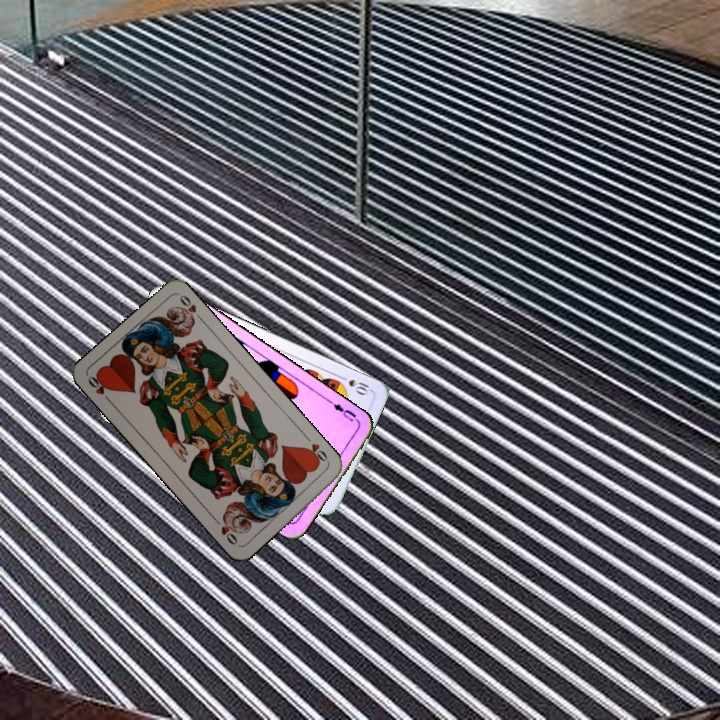EU: (326, 397, 362, 425)
HO: (301, 432, 332, 467), (84, 371, 115, 406)
S10: (335, 371, 373, 398)
